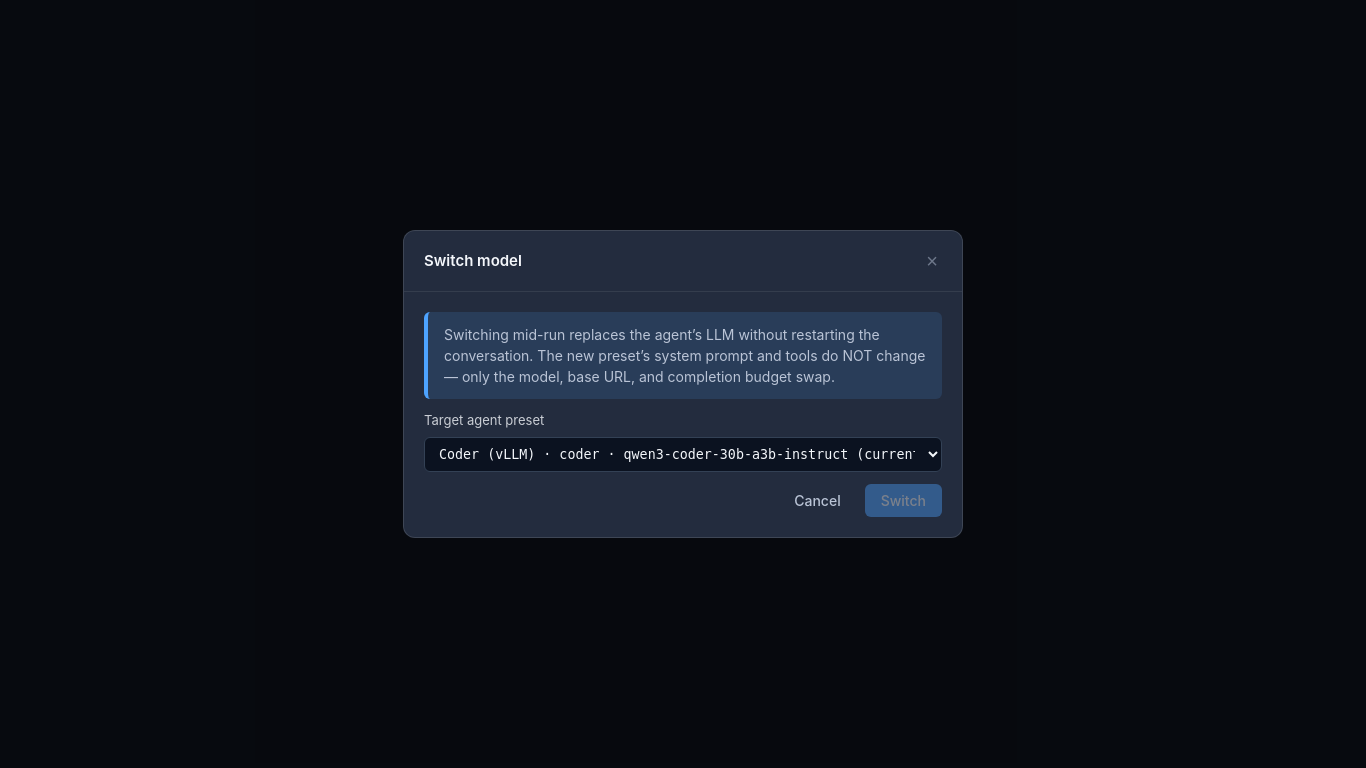
it: RunModelSwitchModal › 404 preset not found renders the "Run or preset not found" banner
Select "Coder (Ollama) · coder · qwen3-coder:30b" in the dropdown labelled "Target agent preset" at (683, 454), box [424,437,942,472]
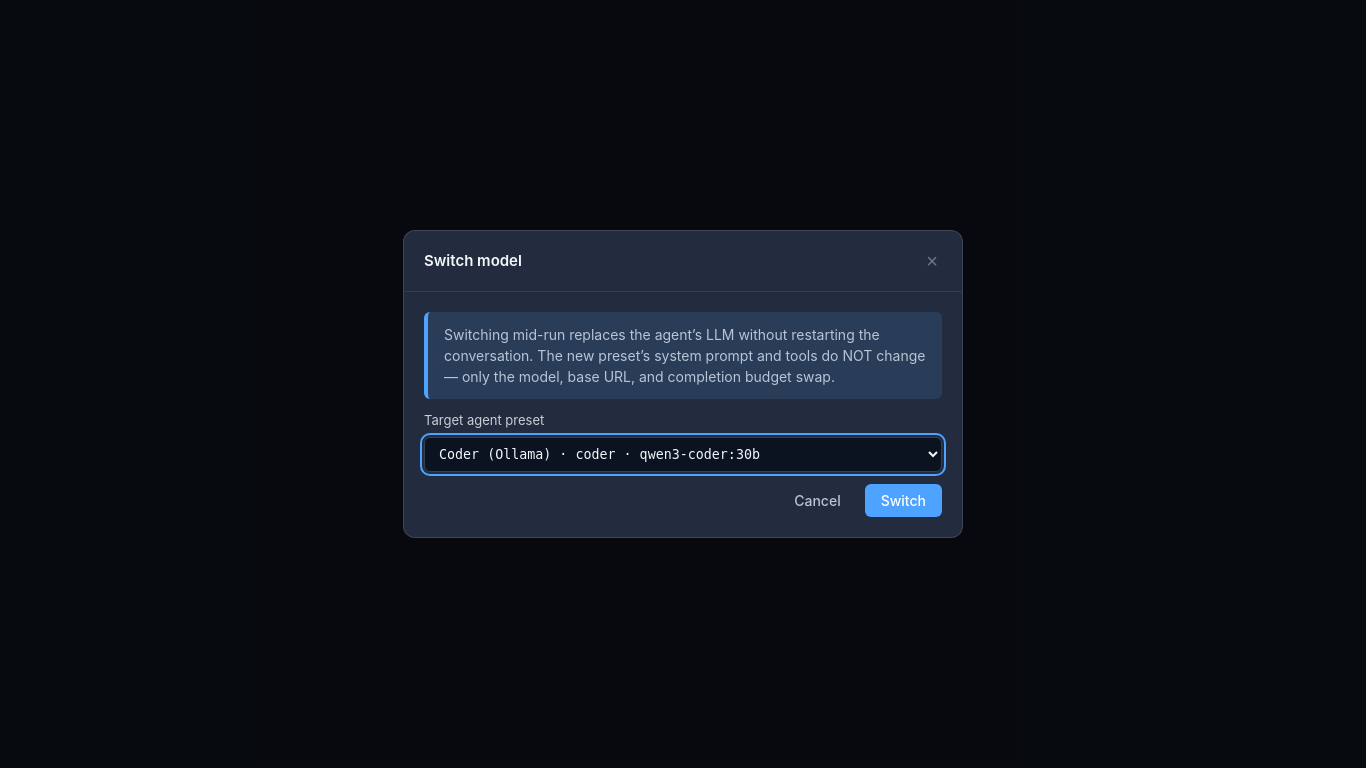
Click the button "Switch" at (903, 500), box [865,484,942,517]
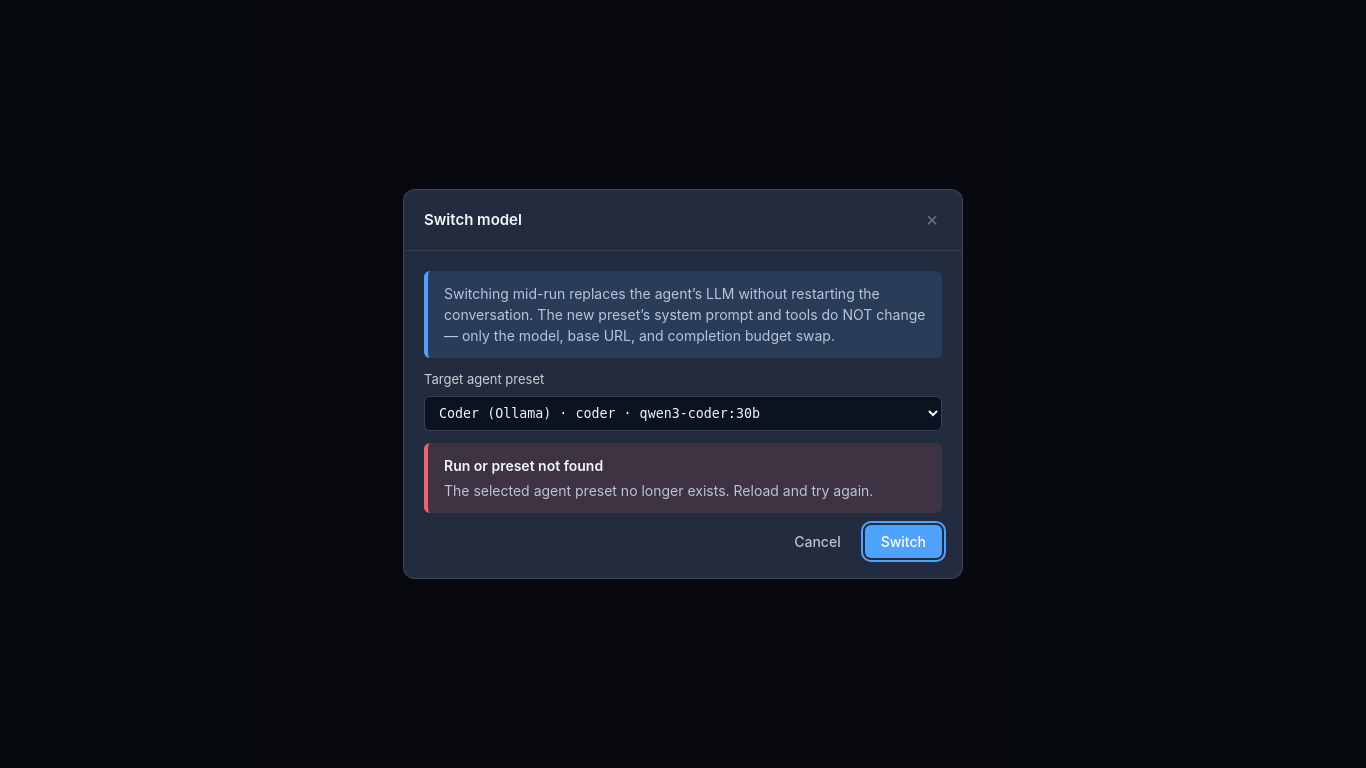
Now the text "Run or preset not found" is shown, box [444,457,603,474]
Now the text "no longer exists" is shown, box [444,482,873,499]
